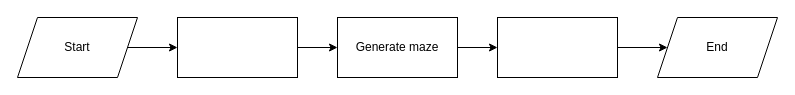
Image size: 795x95. Some labels were removed from this diagram. Each missing label, with the centre of its shape:
"Generate nodes" goes at (237,47).
"Return draw coordinates" goes at (557,47).
